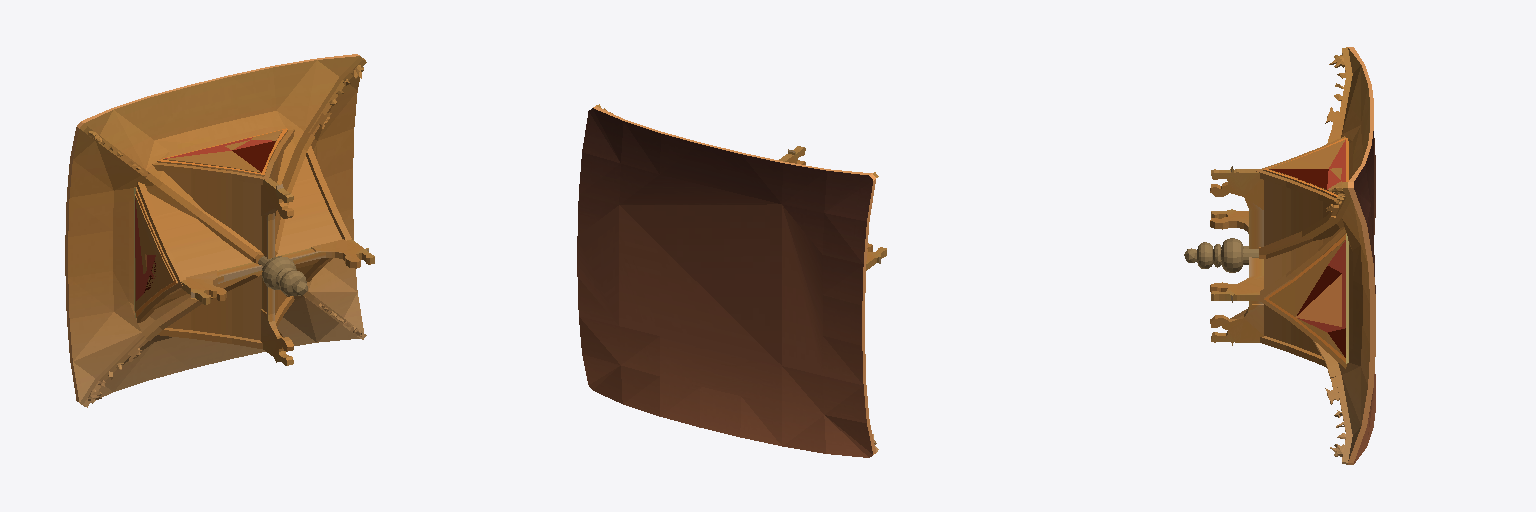
3 renders of one model, left to right at view 1: azimuth 30°, elevation 25°; view 2: azimuth 150°, elevation 25°; view 3: azimuth 270°, elevation 25°, orthographic.
Bounding box in the file's own units: 188 × 178 × 110.
Materials: 10 (3 with a texture image).